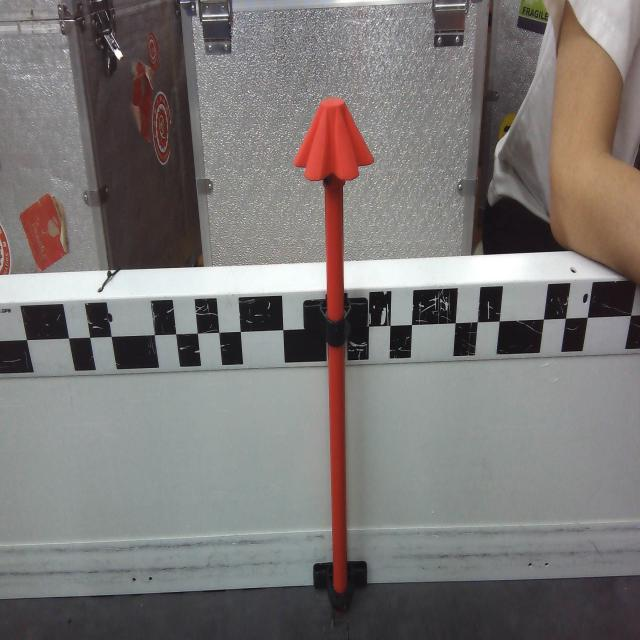zred-Stake-Head: (293, 98, 375, 182)
